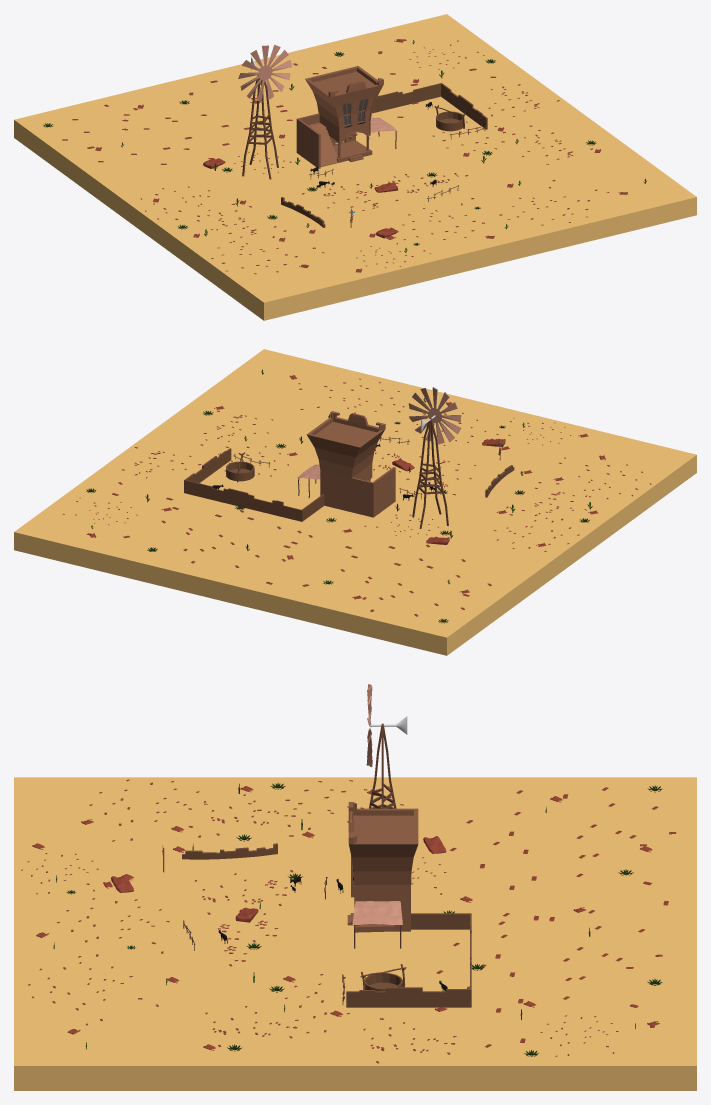
File: 02_Desert.FBX
3 renders of one model, top to bottom at view 1: azimuth 30°, elevation 25°; view 2: azimuth 150°, elevation 25°; view 3: azimuth 270°, elevation 25°, orthographic. The views are drawn at different scales.
Visible parts, largest first — view 1: Box020, Box003, Plane004, Cylinder006, Box007, Box002, Plane001, Cylinder011; view 2: Box020, Box003, Plane004, Box007, Cylinder006, Box002, Cylinder011, Box011; view 3: Box020, Box003, Plane004, Plane002, Box021, Box002.
Part boxes in pixels (<box>): Box020: <box>14,14,696,320</box>; Box003: <box>305,66,383,142</box>; Plane004: <box>372,83,487,129</box>; Cylinder006: <box>238,44,292,100</box>; Box007: <box>296,113,320,168</box>; Box002: <box>329,133,372,162</box>; Plane001: <box>308,122,337,166</box>; Cylinder011: <box>436,111,464,131</box>; Box020: <box>14,349,696,655</box>; Box003: <box>306,411,385,492</box>; Plane004: <box>184,448,324,521</box>; Box007: <box>351,467,395,517</box>; Cylinder006: <box>408,387,461,444</box>; Box002: <box>320,482,351,512</box>; Cylinder011: <box>226,461,254,481</box>; Box011: <box>418,418,442,528</box>; Box020: <box>14,777,696,1090</box>; Box003: <box>348,802,418,904</box>; Plane004: <box>346,913,471,1007</box>; Plane002: <box>352,901,402,924</box>; Box021: <box>182,843,277,859</box>; Box002: <box>354,904,410,932</box>.
Size of the model in its own units: 500 by 163 by 500.
